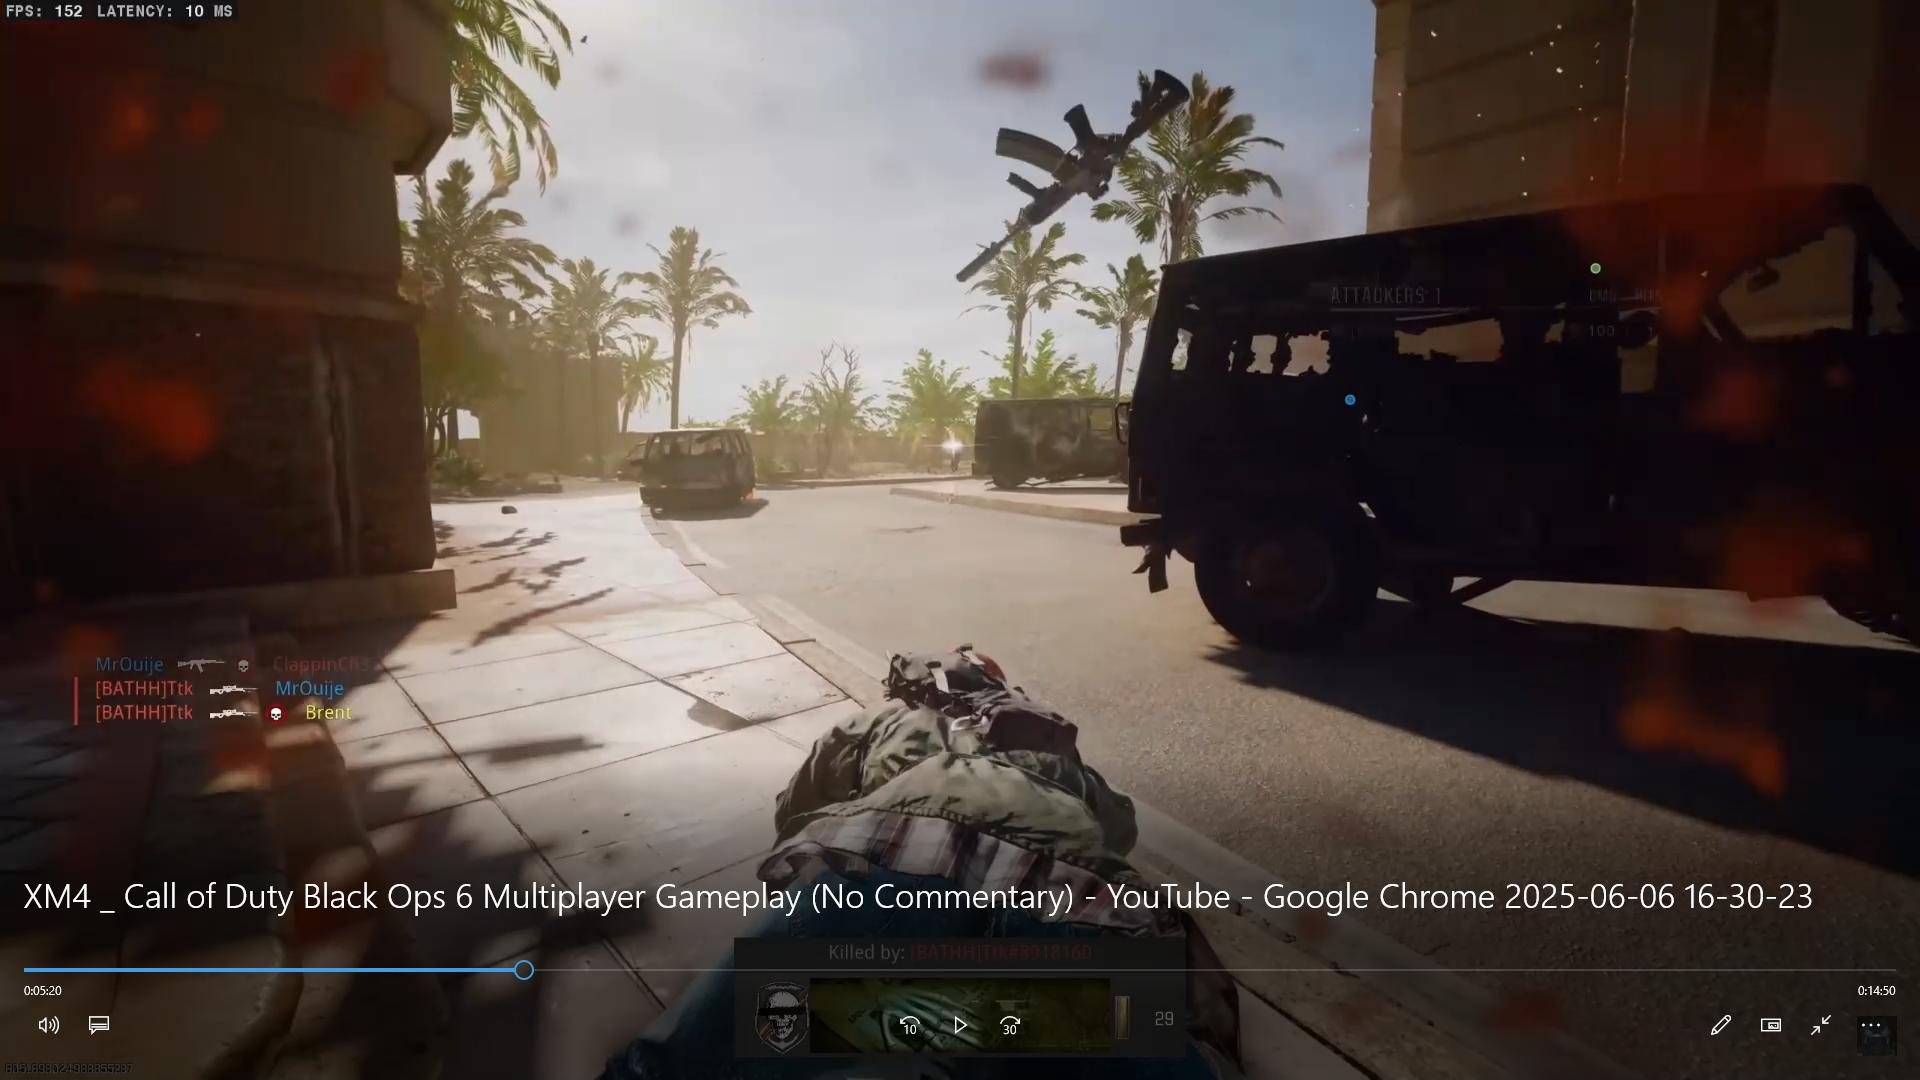Enemy: (935, 429, 975, 479)
